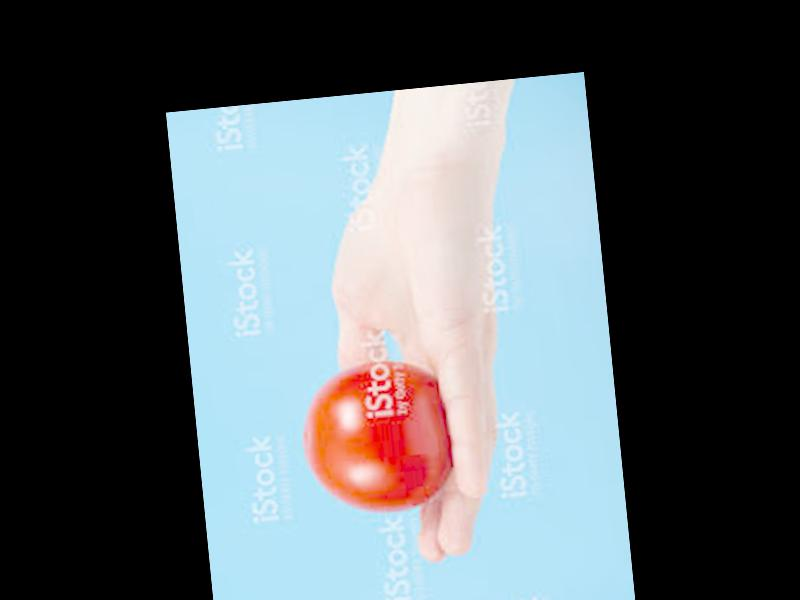Tomato: (299, 357, 455, 519)
